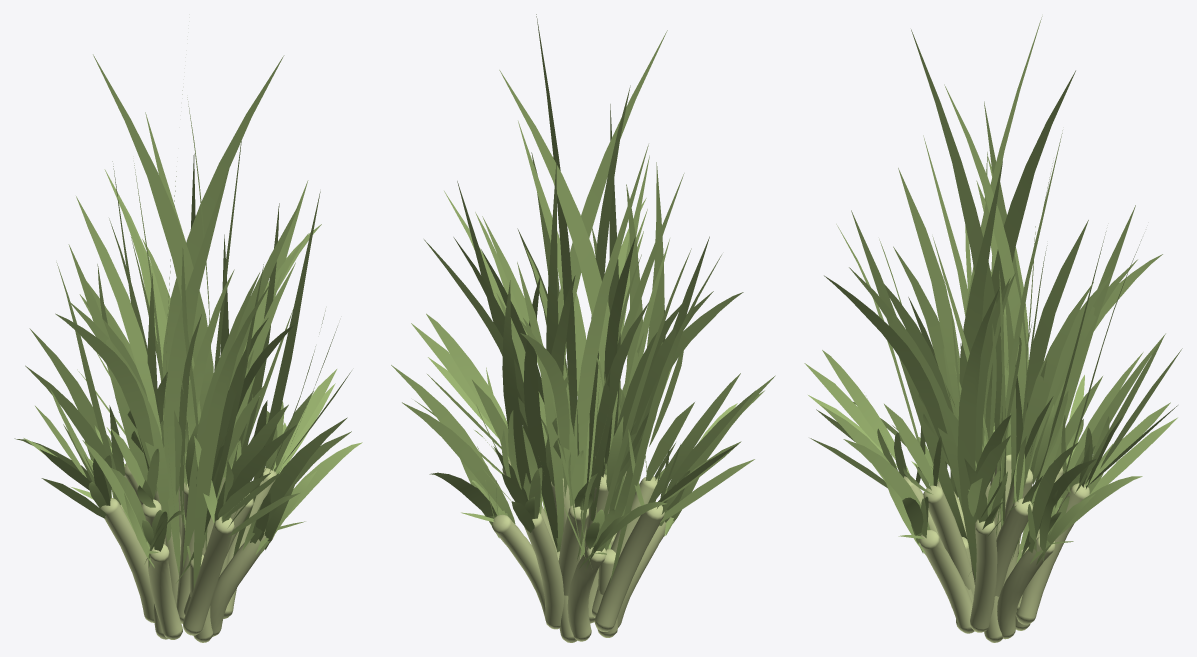
File: grass 3.fbx
3 renders of one model, left to right at view 1: azimuth 30°, elevation 25°; view 2: azimuth 150°, elevation 25°; view 3: azimuth 270°, elevation 25°, orthographic.
Visible parts, largest first — view 1: grass3; view 2: grass3; view 3: grass3.
Part boxes in pixels (x1=…): grass3: x1=14, y1=54, x2=362, y2=642; grass3: x1=391, y1=14, x2=775, y2=642; grass3: x1=804, y1=16, x2=1182, y2=642.
Bounding box in the file's own units: 132 × 224 × 132.
